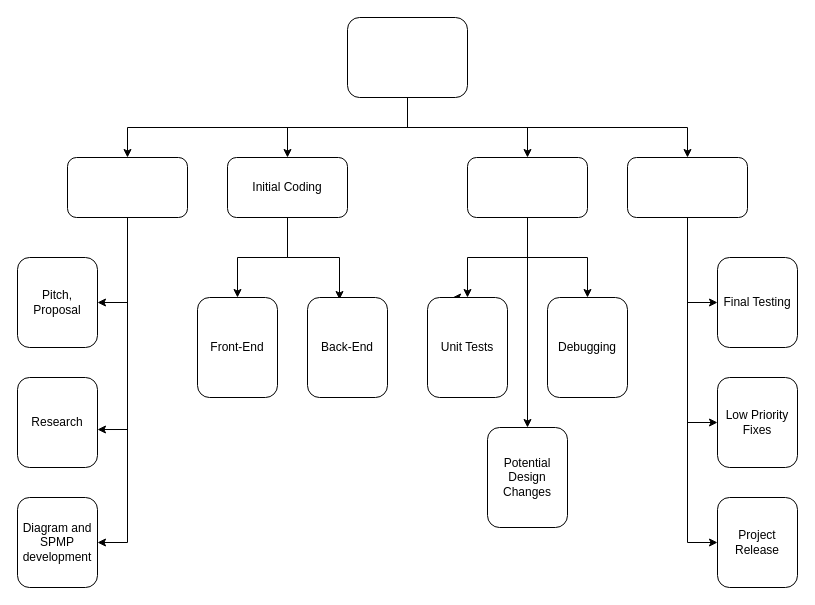
The diagram is 815 pixels wide and 605 high, and some of its shapes have lost their labels. The centre of each missing label's shape, as x and y in pixels:
CC20 Mesenger WBS: point (407, 57)
Final Changes and Release: point (687, 187)
Planning and Pre-Development: point (127, 187)
Testing and Design Updates: point (527, 187)
